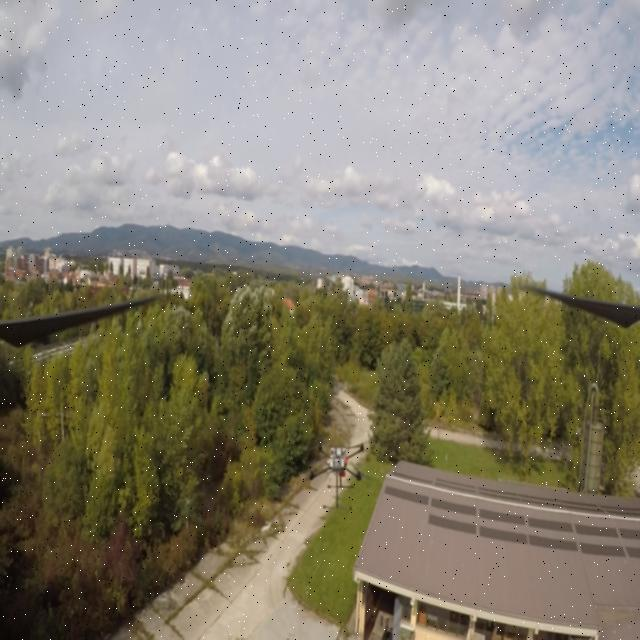UAV: (304, 436, 374, 512)
